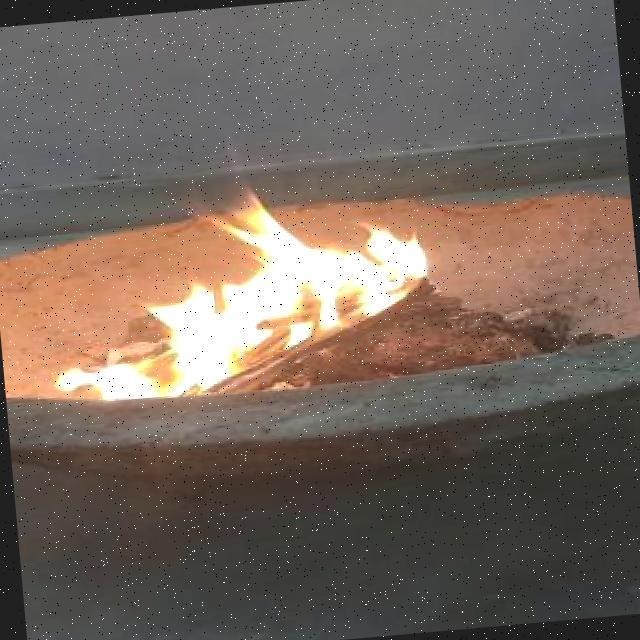Fire: (42, 116, 436, 419)
